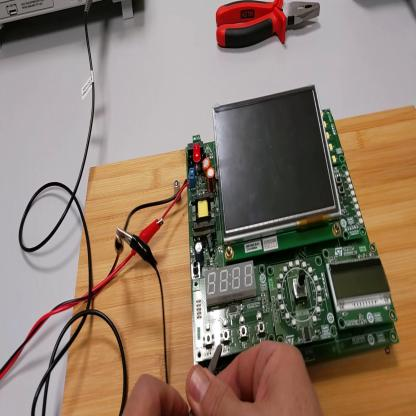hand: (188, 346, 322, 416), (124, 371, 185, 415)
low voltage board: (126, 86, 401, 377)
oscilloscope: (1, 1, 139, 36)
oscilloscope probe tip: (189, 345, 223, 414)
pliers: (217, 3, 322, 48)
working area: (58, 111, 416, 414)
